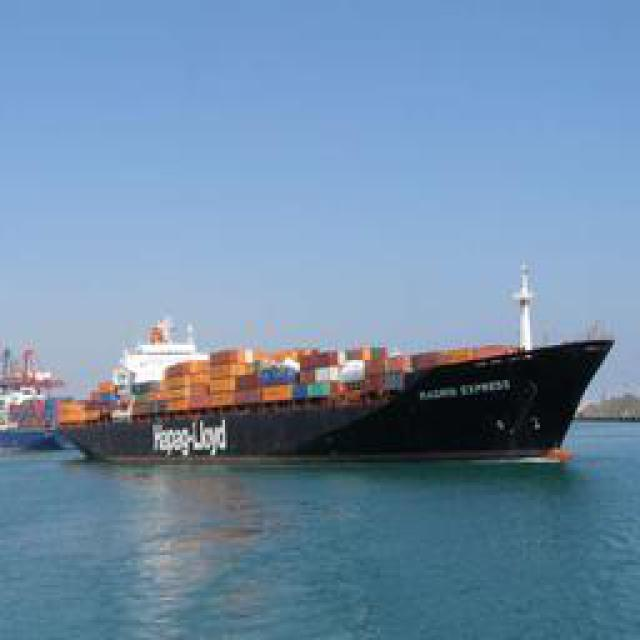Ship: (76, 335, 621, 460)
